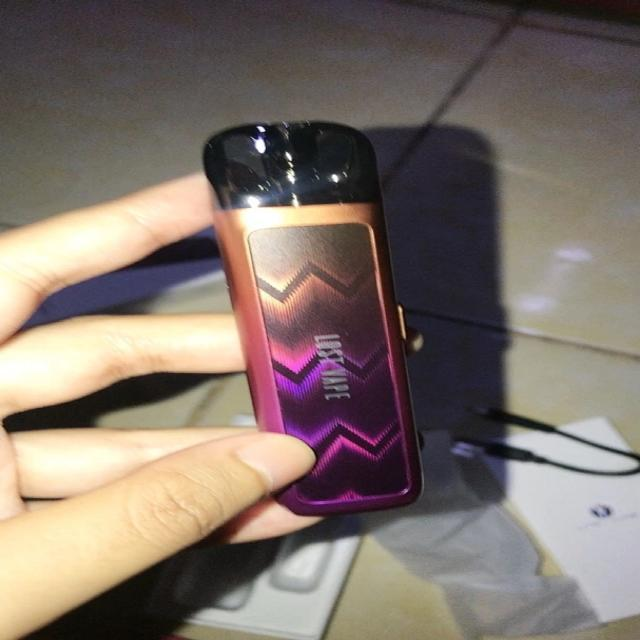Hazard: (203, 120, 430, 517)
